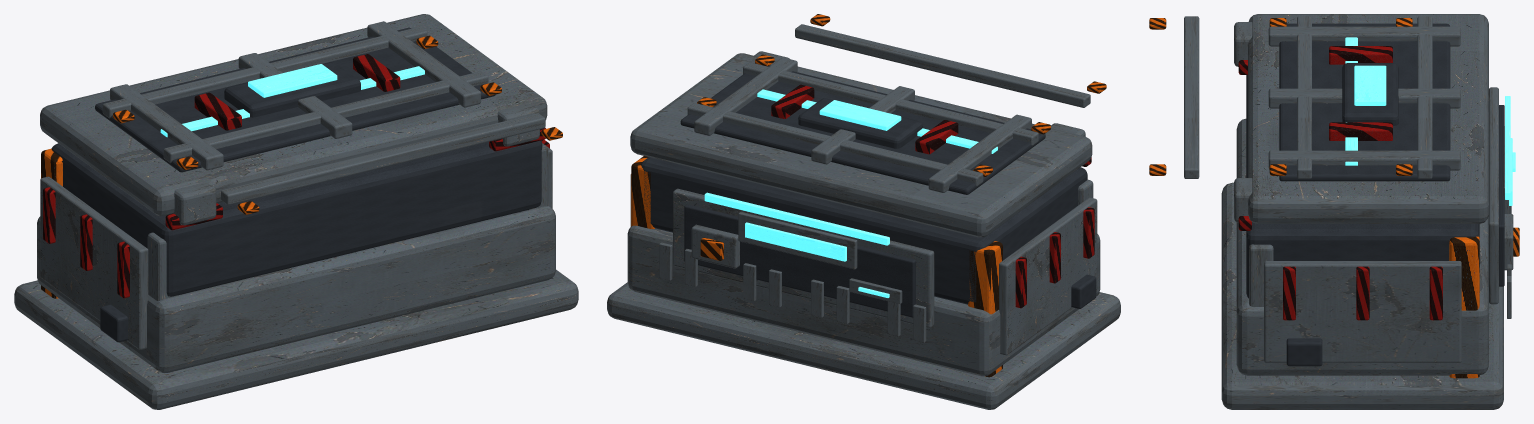
The model's file is tech_cache.glb.
The picture shows the model from 3 angles, left to right: view 1: azimuth 30°, elevation 25°; view 2: azimuth 150°, elevation 25°; view 3: azimuth 270°, elevation 25°; orthographic projection. The views are drawn at different scales.
Visible parts, largest first — view 1: CacheUpperHull, CacheLowerHull, TechCacheLid, CacheBaseSkid, LidInset, CacheSideRail_-1, LidCrossRail_0.3, LidCrossRail_-0.3, LidCrossRail_-0.94, CredentialDataCore, LidSpine_0.78, LidSpine_-0.78 (+14 smaller); view 2: TechCacheLid, CacheBaseSkid, CacheLowerHull, CacheUpperHull, LidInset, CacheSideRail_-1, CacheFacePanel, CacheFaceRecess, LidCrossRail_0.3, LidCrossRail_-0.94, LidCrossRail_-0.3, CredentialDataCore (+26 smaller); view 3: TechCacheLid, CacheSideRail_1, CacheBaseSkid, LidInset, CacheLowerHull, CacheUpperHull, LidSpine_-0.78, LidSpine_0.78, LidCrossRail_0.3, LidCrossRail_-0.94, CacheFaceRecess, CredentialDataCore (+17 smaller).
Boxes of the visible parts, box(x1,y1,x2,y2) form: CacheUpperHull: box(51, 140, 542, 296); CacheLowerHull: box(37, 206, 555, 372); TechCacheLid: box(40, 14, 547, 216); CacheBaseSkid: box(14, 269, 578, 409); LidInset: box(95, 27, 495, 172); CacheSideRail_-1: box(40, 176, 148, 349); LidCrossRail_0.3: box(221, 113, 545, 205); LidCrossRail_-0.3: box(163, 71, 488, 163); LidCrossRail_-0.94: box(102, 26, 427, 118); CredentialDataCore: box(224, 62, 360, 117); LidSpine_0.78: box(367, 21, 480, 107); LidSpine_-0.78: box(110, 84, 223, 170); TechCacheLid: box(630, 53, 1092, 237); CacheBaseSkid: box(607, 282, 1120, 409); CacheLowerHull: box(627, 225, 1100, 376); CacheUpperHull: box(641, 157, 1087, 304); LidInset: box(680, 65, 1045, 194); CacheSideRail_-1: box(999, 197, 1097, 355); CacheFacePanel: box(684, 204, 915, 317); CacheFaceRecess: box(673, 188, 934, 328); LidCrossRail_0.3: box(795, 24, 1090, 107); LidCrossRail_-0.94: box(687, 103, 983, 186); LidCrossRail_-0.3: box(743, 62, 1038, 145); CredentialDataCore: box(798, 98, 922, 148); TechCacheLid: box(1248, 14, 1488, 223); CacheSideRail_1: box(1264, 261, 1461, 362); CacheBaseSkid: box(1221, 182, 1503, 409); LidInset: box(1279, 23, 1450, 181); CacheLowerHull: box(1236, 118, 1488, 375); CacheUpperHull: box(1246, 75, 1479, 298); LidSpine_-0.78: box(1268, 26, 1460, 46); LidSpine_0.78: box(1268, 150, 1460, 170); LidCrossRail_0.3: box(1184, 16, 1199, 178); LidCrossRail_-0.94: box(1417, 16, 1432, 178); CacheFaceRecess: box(1488, 87, 1498, 304); CredentialDataCore: box(1342, 63, 1398, 125).
Size of the model in its own units: 2.64 by 1.34 by 1.97.
Materials: 6 (6 with a texture image).
